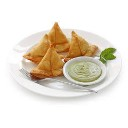samosa: (29, 45, 64, 80), (25, 33, 53, 62), (70, 29, 99, 56), (47, 21, 71, 53)
